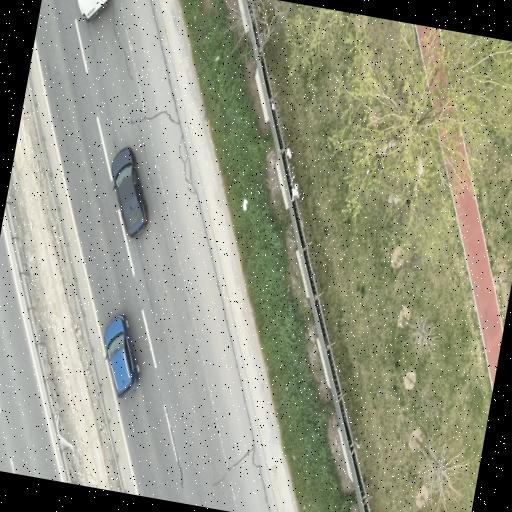car: (112, 148, 147, 237), (104, 315, 139, 397)
truck: (78, 0, 108, 21)
